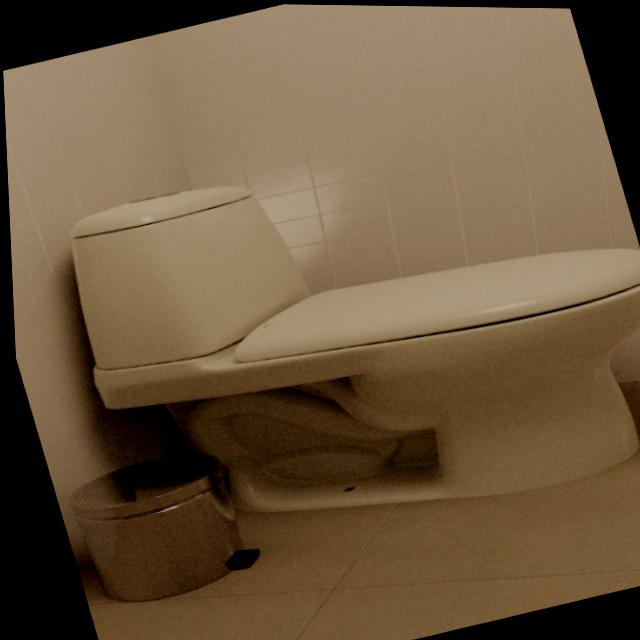toilet: (38, 81, 640, 585)
